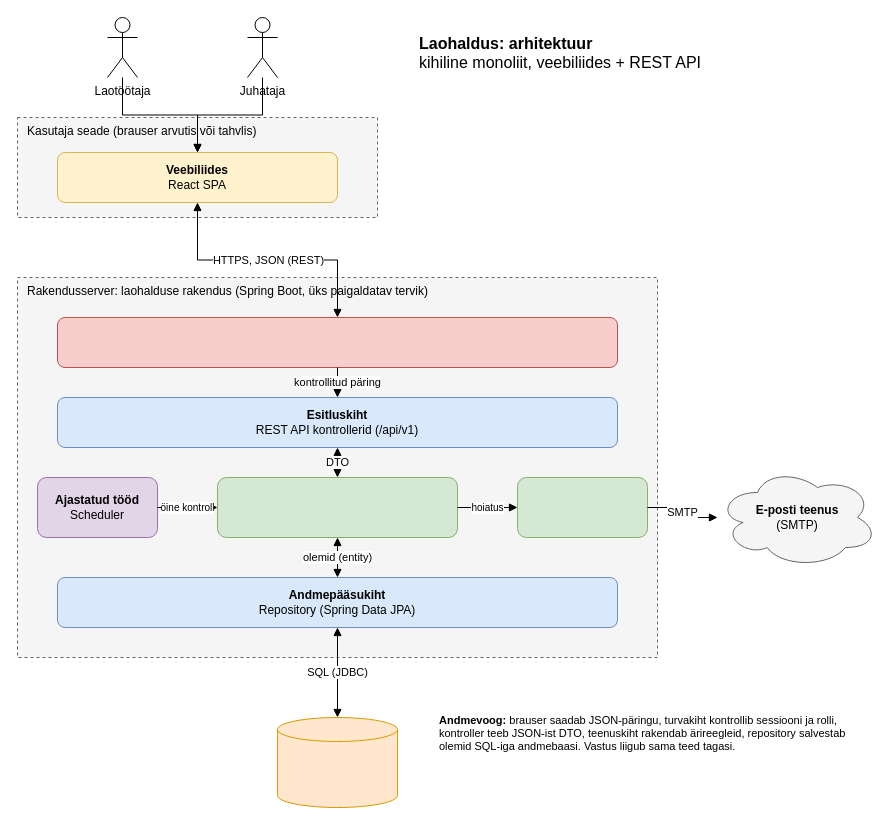
Some shapes in this 895 by 825 pixel diagram are drawn without their labels. Here are the shapes that lost their labels. From the top down, the centre of each, then its label:
At point (337, 342): "Turvakiht Spring Security: sisselogimine, rollid".
At point (337, 507): "Teenuskiht (äriloogika) ProductService, StockService, ReportService, UserService".
At point (582, 507): "Teavitused NotificationService".
At point (337, 762): "PostgreSQL andmebaas".
